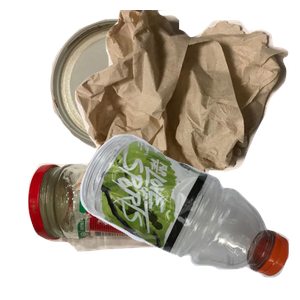glass: (25, 155, 227, 300)
metal: (47, 16, 214, 157)
plastic: (77, 132, 300, 300)
trash: (70, 10, 300, 190)
